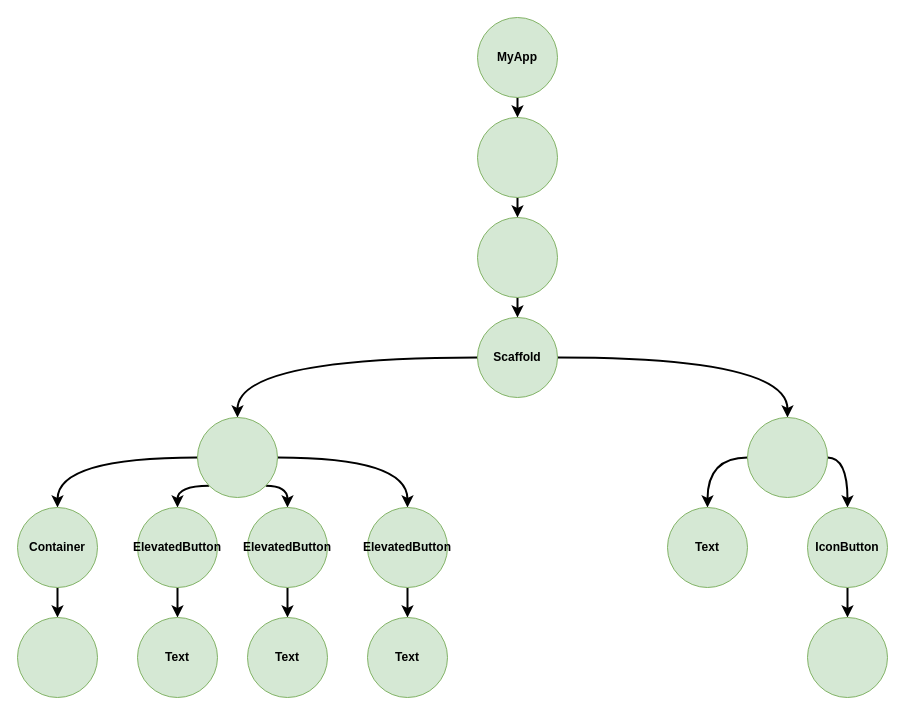
Image size: 905x715. Some labels were removed from this diagram. Here are the shapes that lost their labels. From the top down, the centre of each, then its label:
At point (517, 157): "MaterialApp".
At point (517, 257): "HomePage".
At point (237, 457): "Column".
At point (787, 457): "AppBar".
At point (57, 657): "Image".
At point (847, 657): "Icon".
